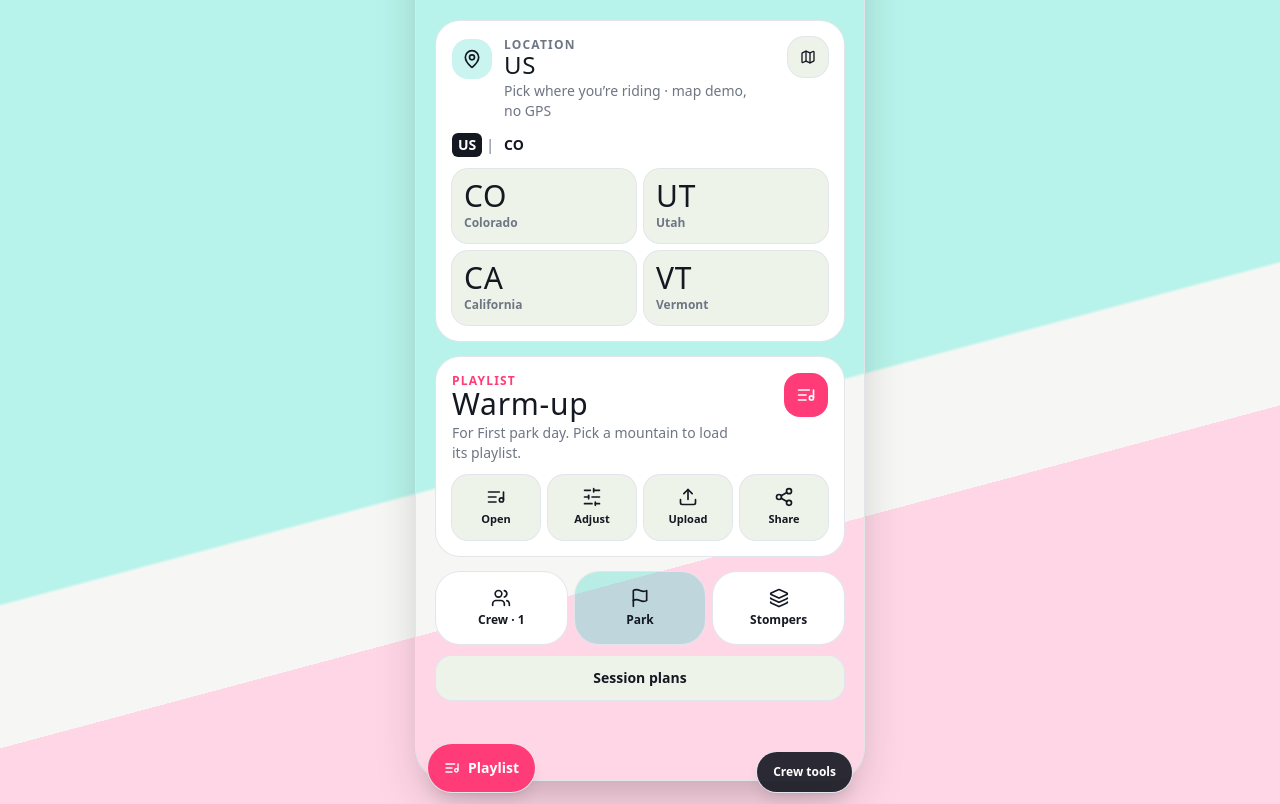
Scenario: Greet home UX smoke › session plans stay collapsed by default
(page scrolled)
Click the button with test id "home-plans-toggle" at coordinates (640, 678), box [436,656,844,700]
(page scrolled)
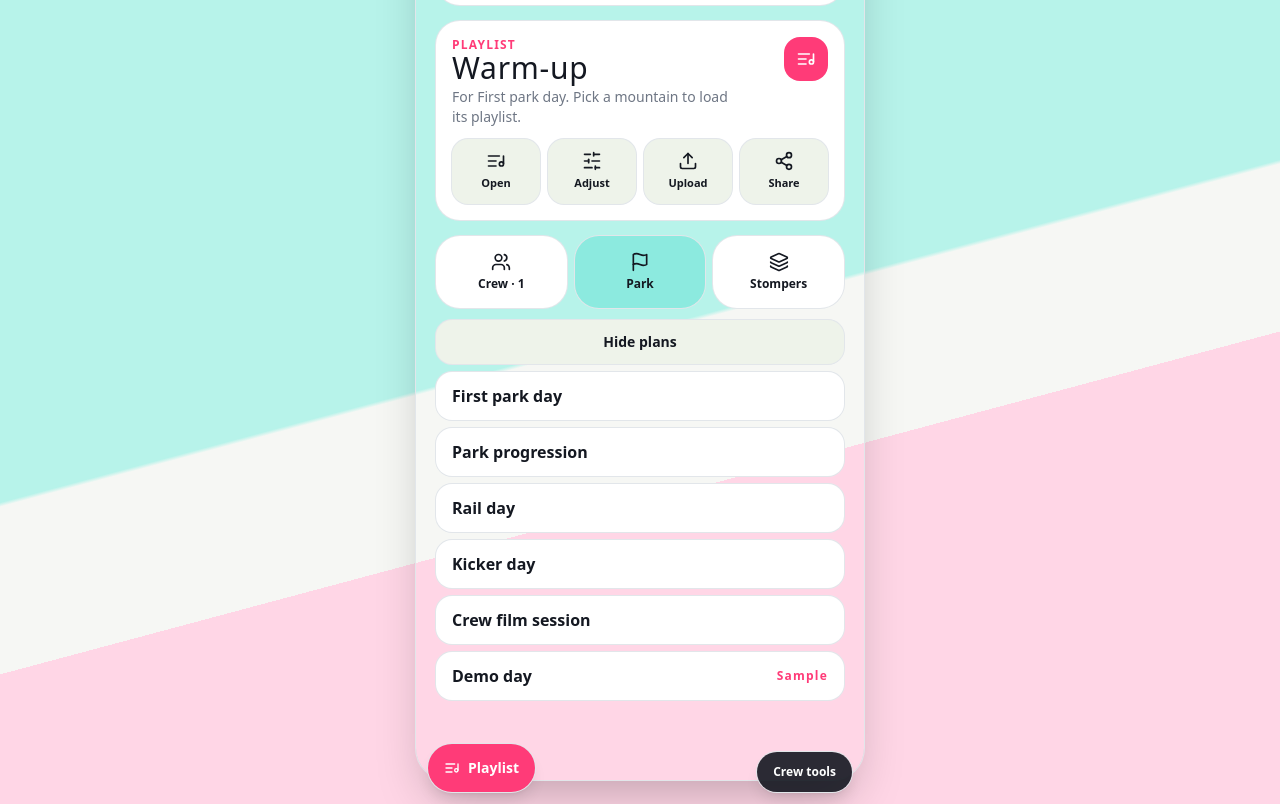
Expected: the list with test id "home-plans-list" is shown, [436,372,844,700]
